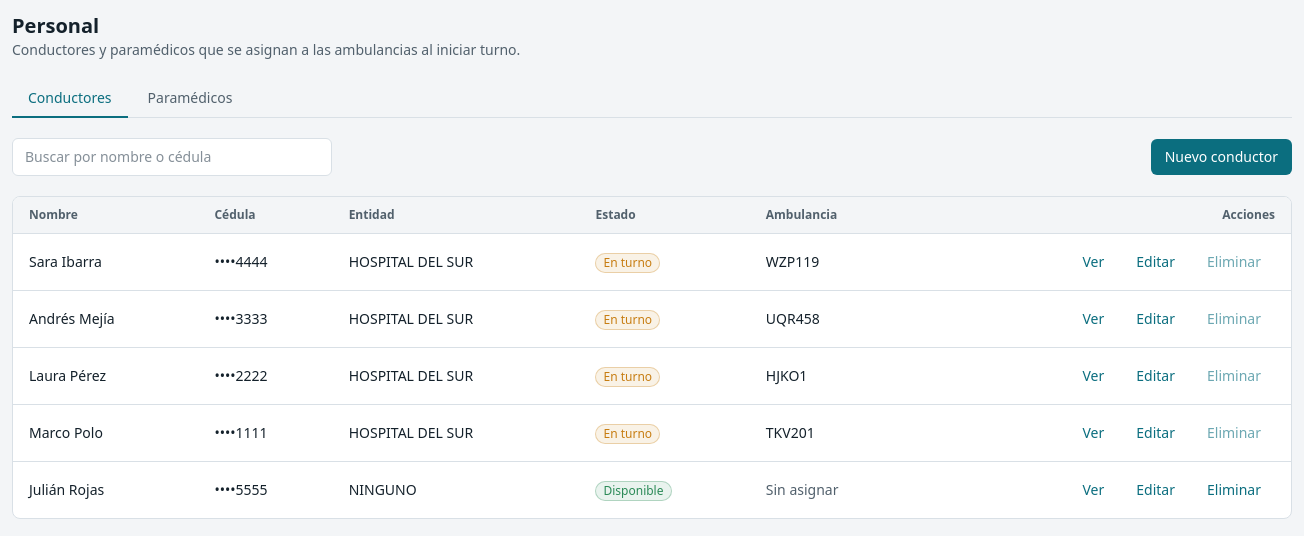
Test: StaffPage · paramédicos › cambia de pestaña y muestra teléfono enmascarado
Check: the text "Sara Ibarra" is shown, box [29, 252, 102, 271]
Click the tab "Paramédicos" at (190, 99), box [132, 80, 248, 118]
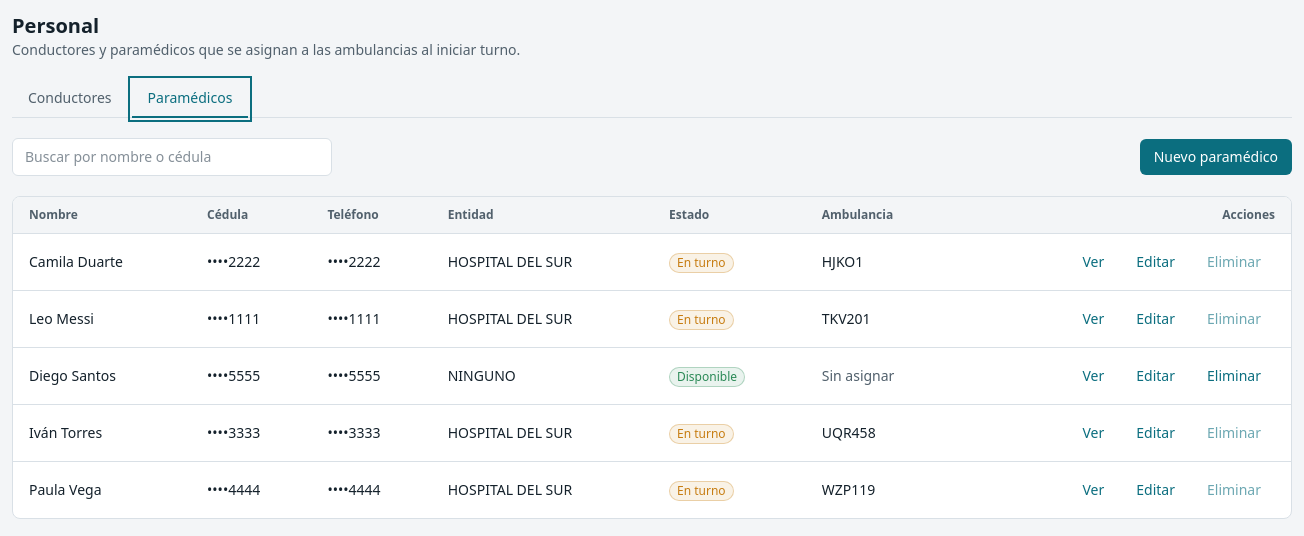
Check: the text "Leo Messi" is shown, box [29, 309, 94, 328]
Check: the column heading "Teléfono" is shown, box [311, 197, 432, 234]
Check: the text "Sara Ibarra" is gone
